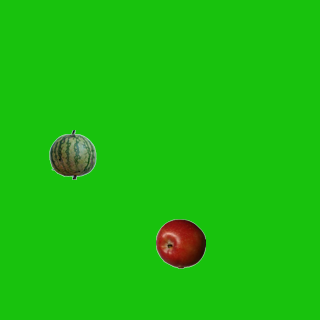Apple Braeburn: (155, 218, 205, 268)
Watermelon: (47, 129, 97, 179)
